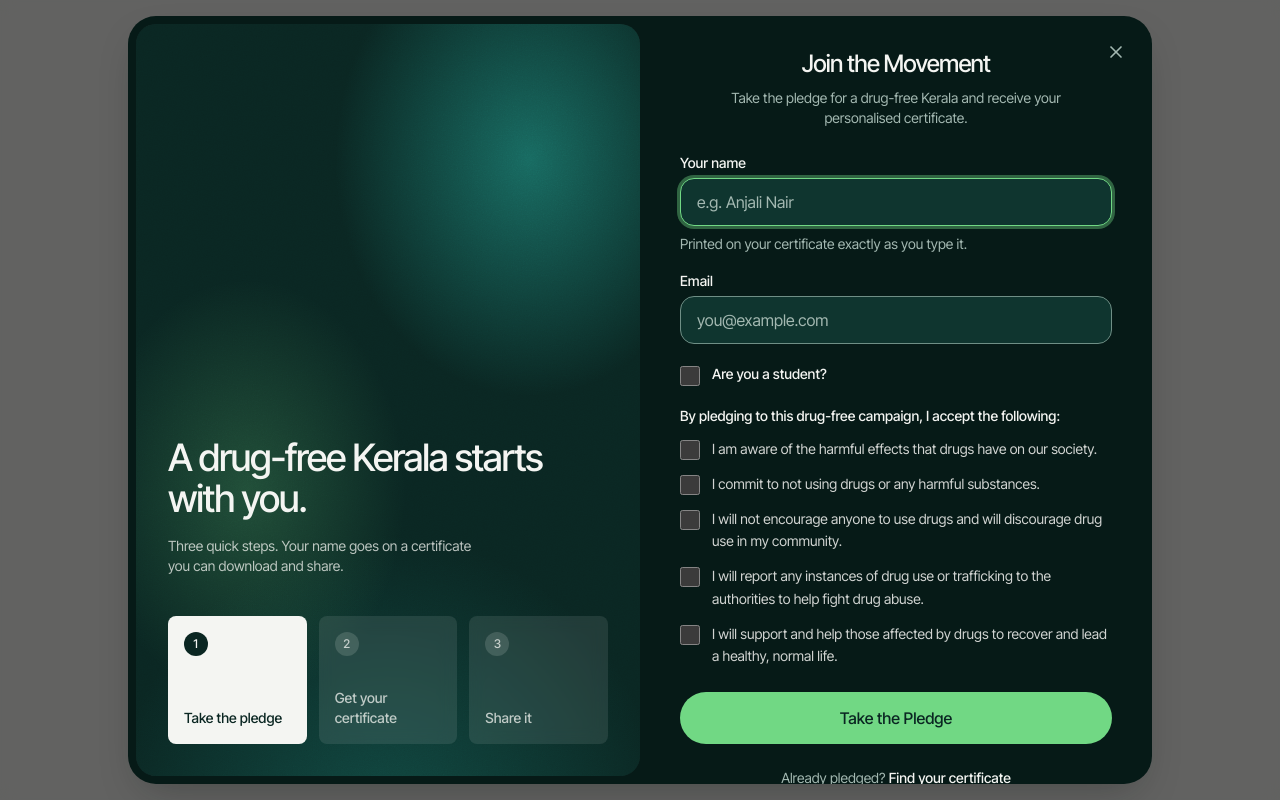
Test: PledgeDialog › student and college › asks for a college only from students, and loads the list only then
The image size is (1280, 800).
Click the checkbox labelled "Are you a student?".
click(690, 376)  # box x1=680 y1=366 x2=700 y2=386
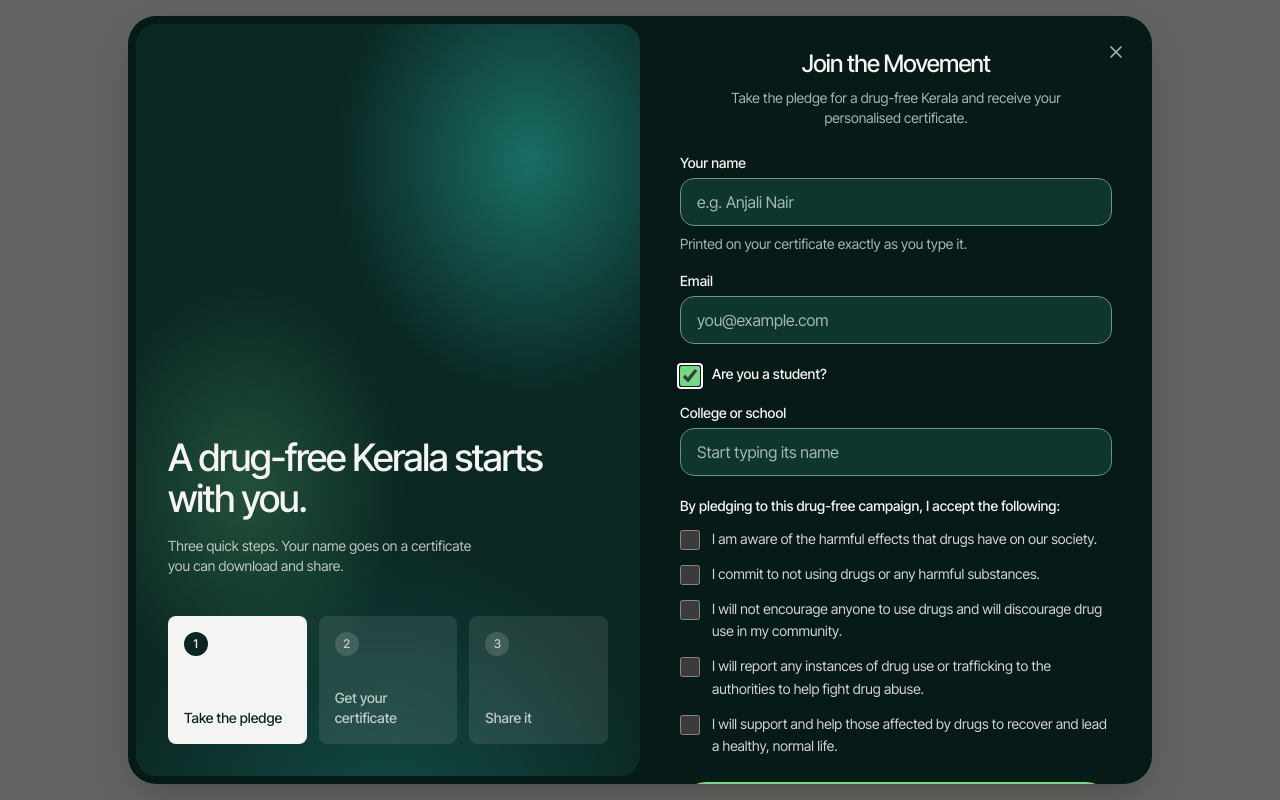
Click the checkbox labelled "Are you a student?".
click(690, 376)  # box x1=680 y1=366 x2=700 y2=386
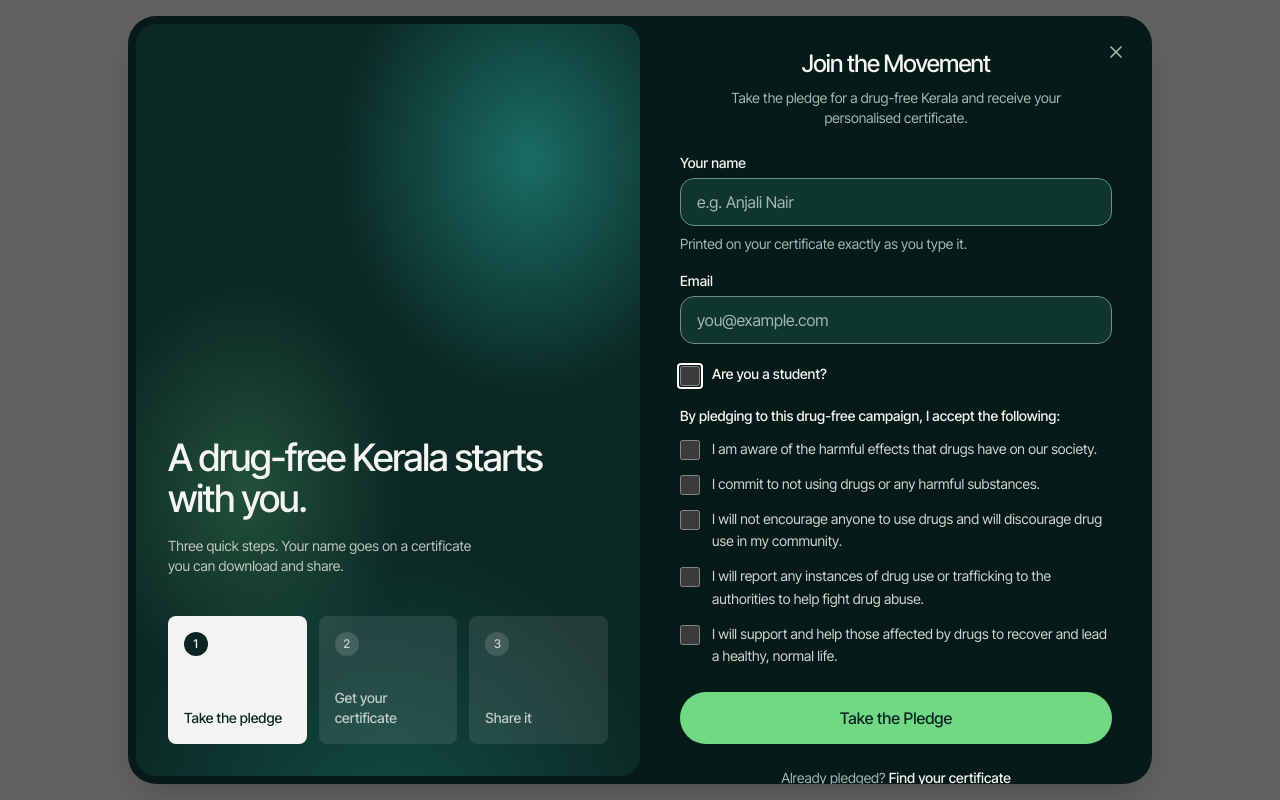
Expected: the dropdown is gone
